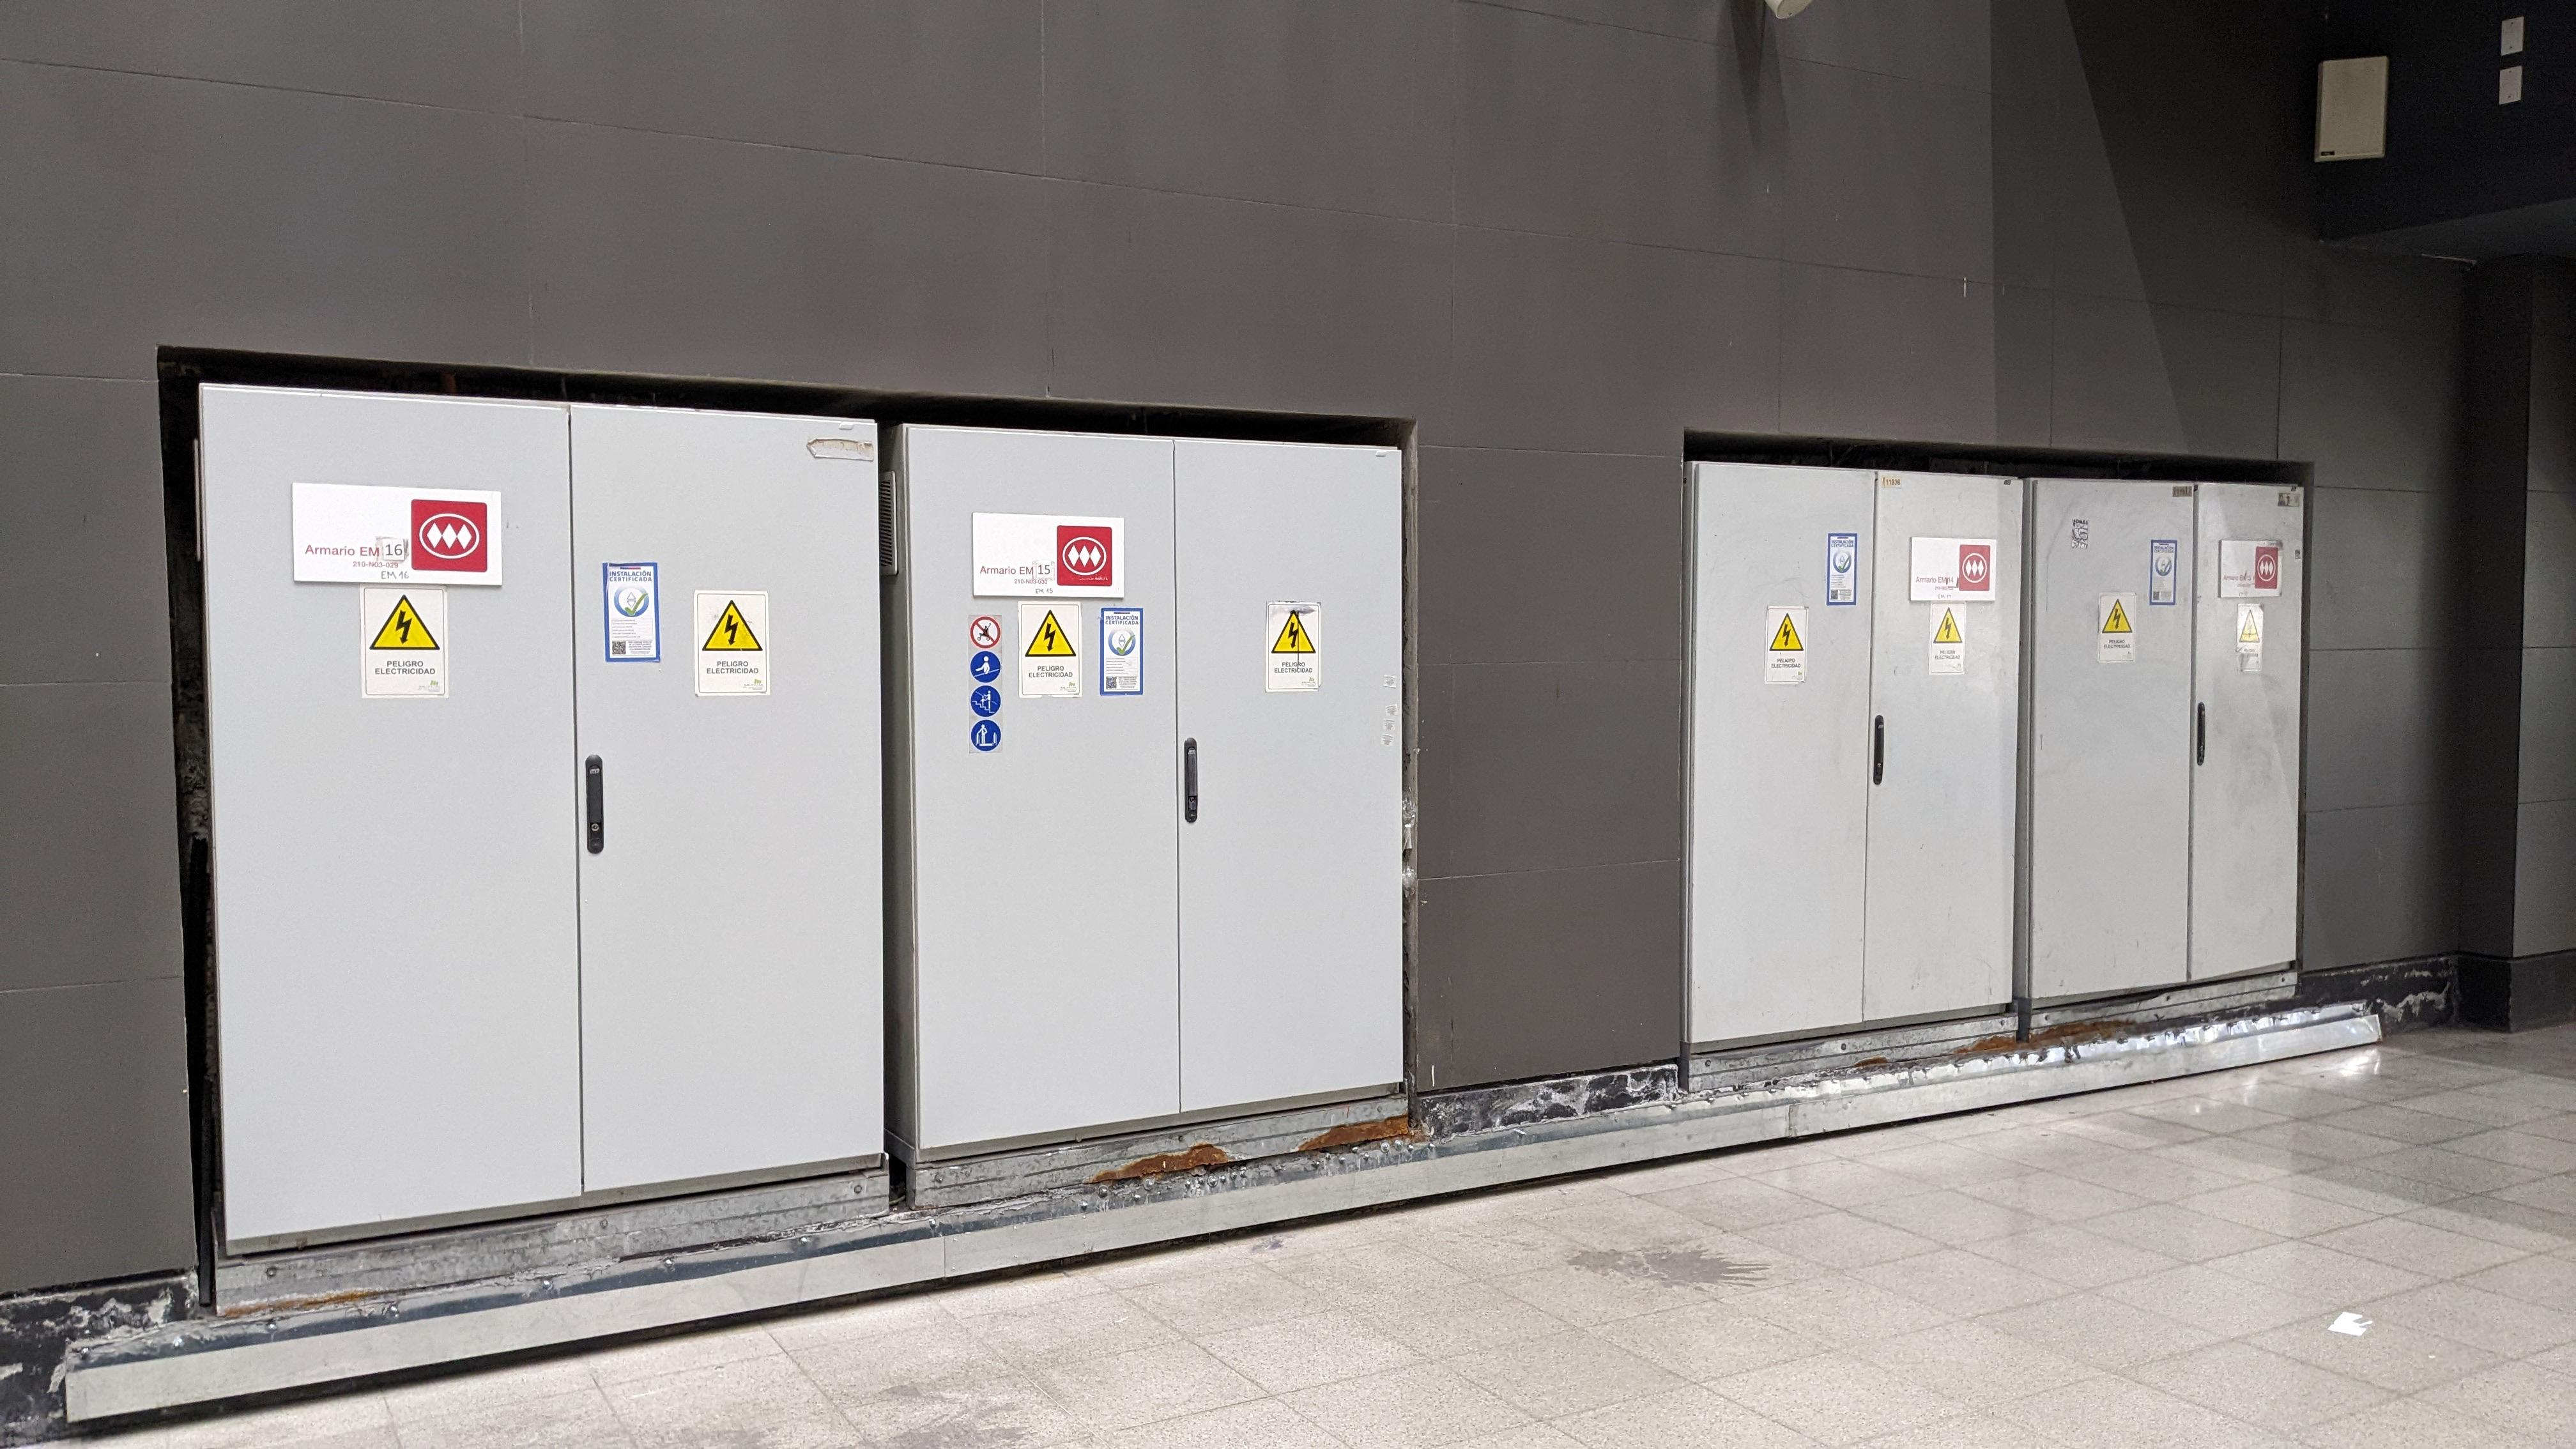danger-electricity: (368, 593, 441, 651), (702, 600, 764, 651), (1024, 609, 1077, 660), (1270, 607, 1318, 655), (1769, 612, 1805, 655), (1932, 607, 1964, 646), (2102, 600, 2132, 635), (2238, 610, 2261, 644)
